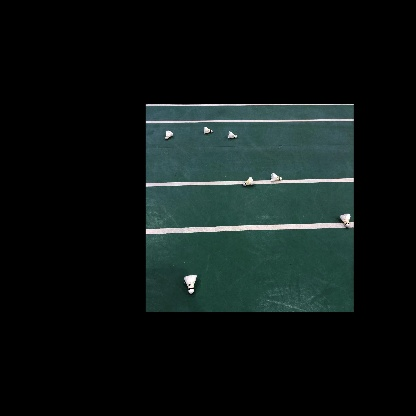ball_single: (184, 275, 197, 294), (339, 213, 351, 228), (243, 176, 254, 186), (270, 173, 282, 182), (204, 126, 213, 134), (165, 130, 173, 139), (228, 131, 237, 138)
